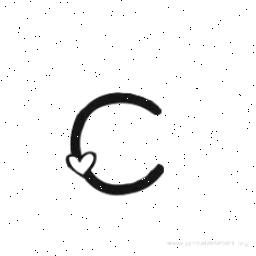c: (60, 91, 180, 205)
